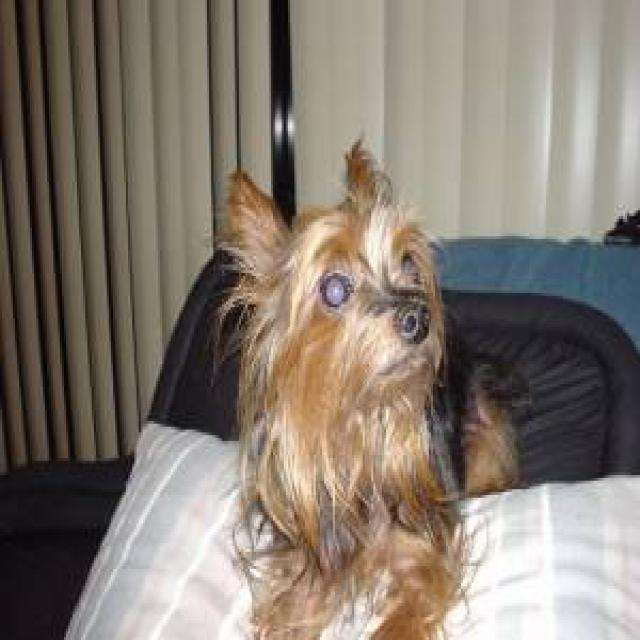dog-yorkshire_terrier: (218, 134, 518, 634)
